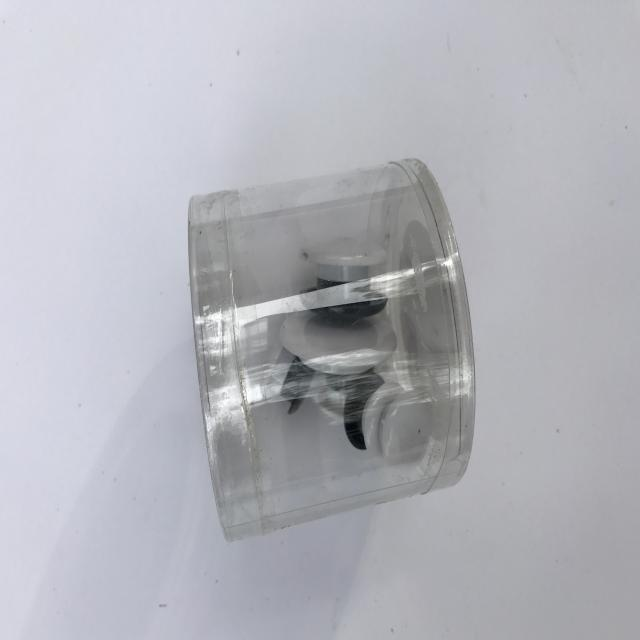plastic: (187, 156, 476, 542)
